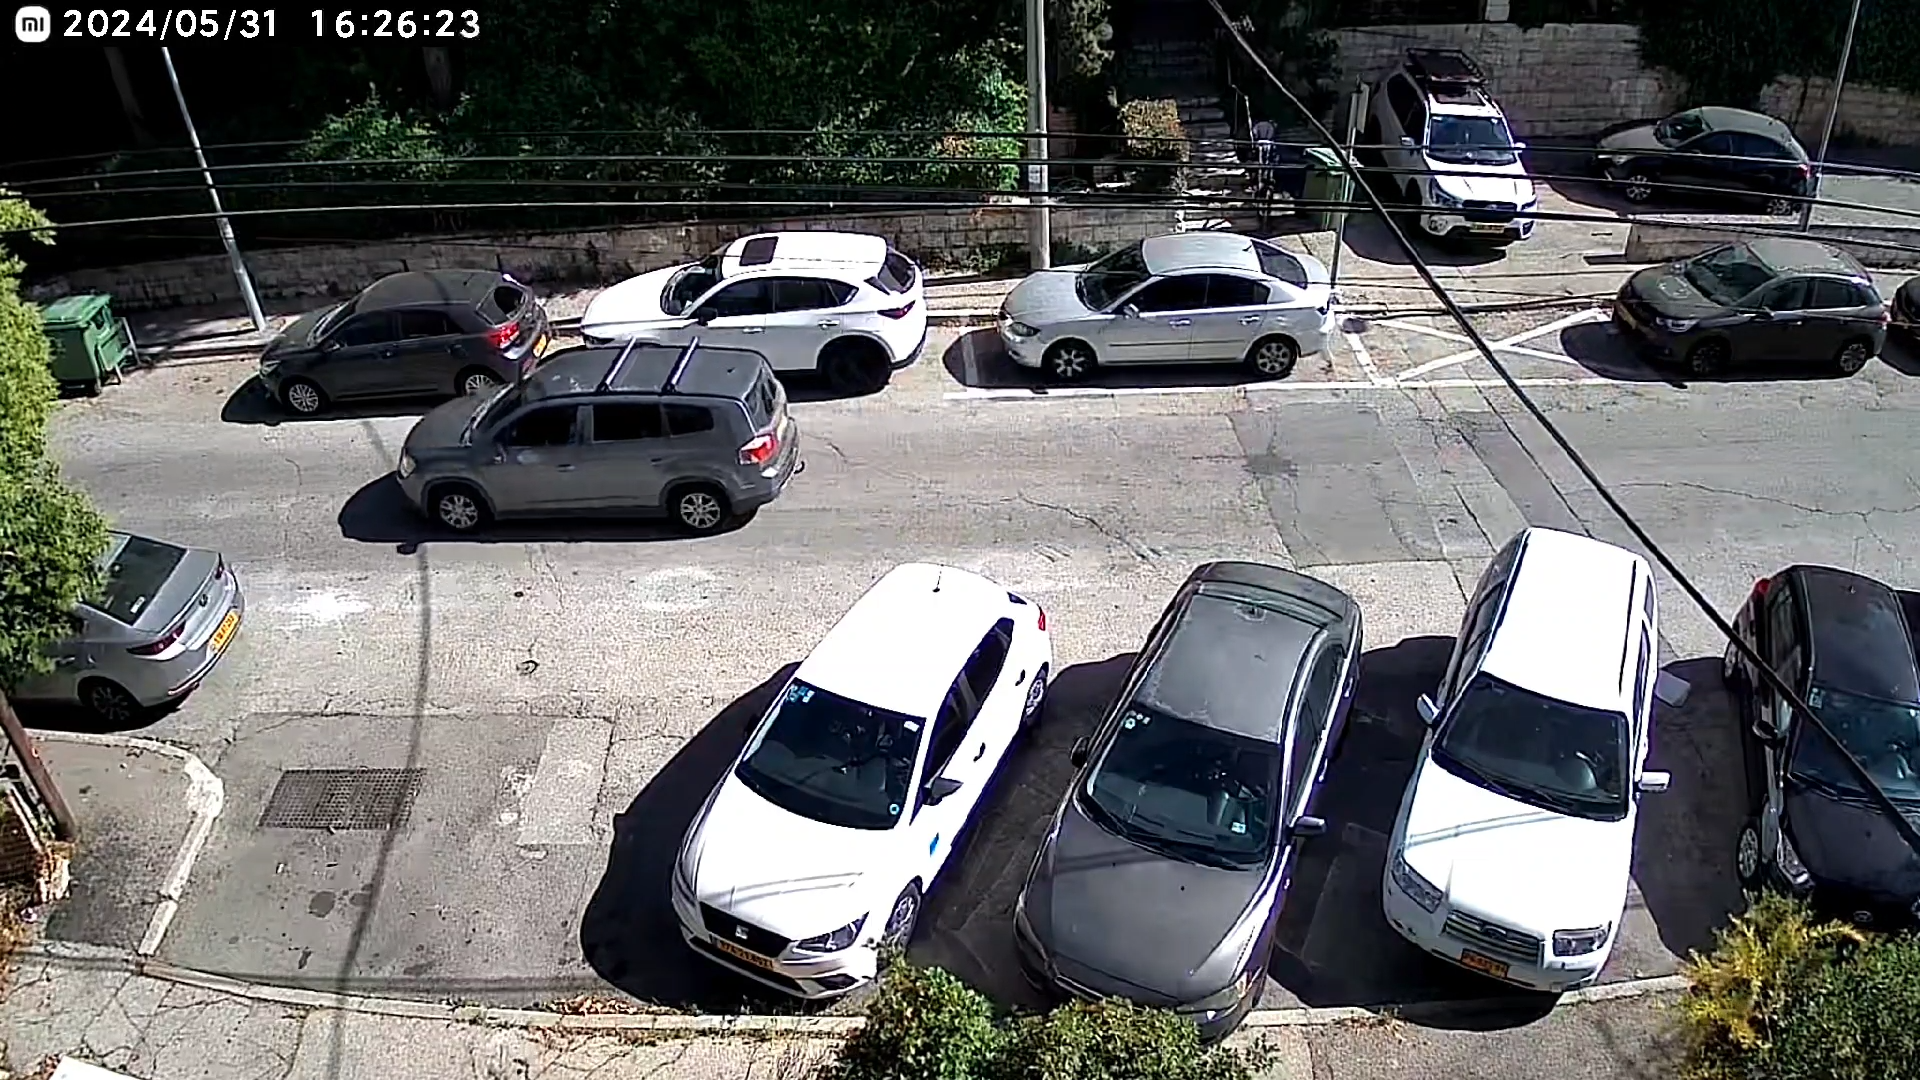moving car: (396, 344, 796, 535)
